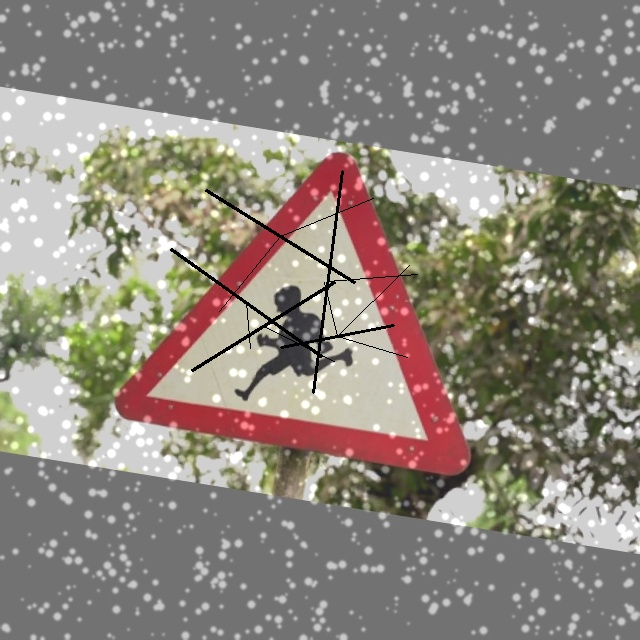School_Ahead: (125, 129, 510, 477)
